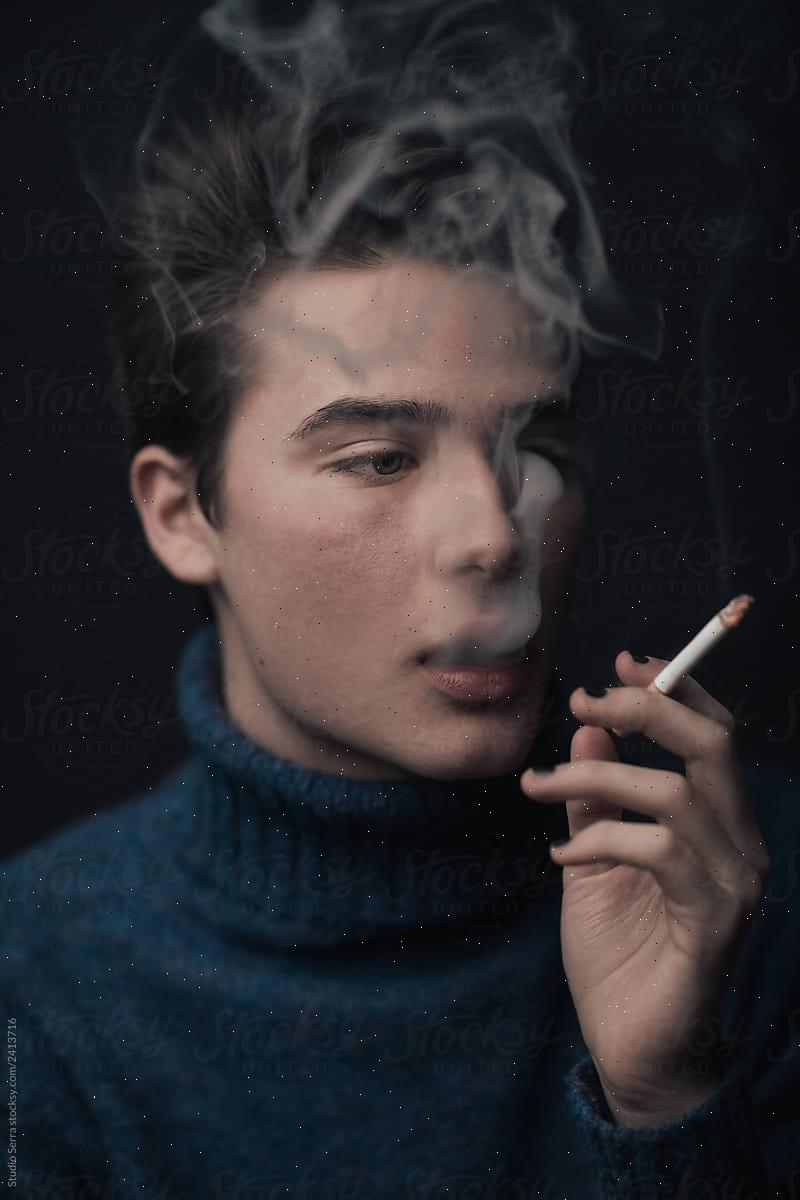cigarette: (646, 594, 753, 694)
